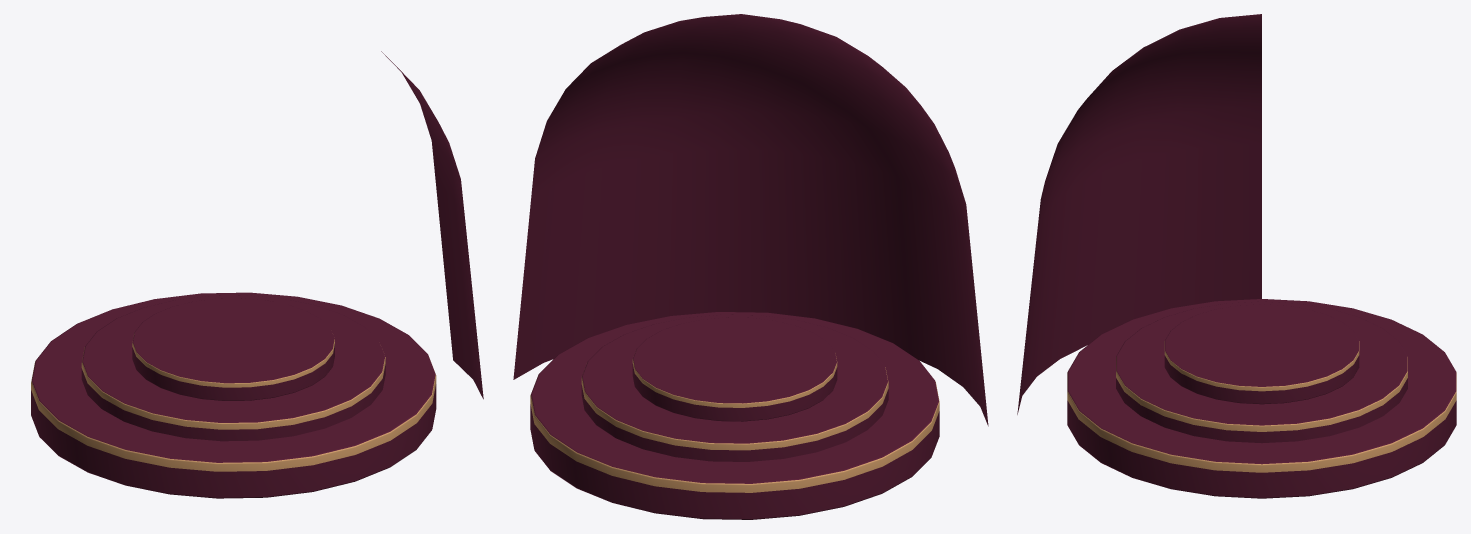
The model's file is Podium_01.fbx.
The picture shows the model from 3 angles, left to right: view 1: azimuth 30°, elevation 25°; view 2: azimuth 150°, elevation 25°; view 3: azimuth 270°, elevation 25°; orthographic projection. The views are drawn at different scales.
Parts seen in each view (by area): view 1: Red; view 2: Red; view 3: Red.
Boxes of the visible parts, left/top/right/bottom form: Red: left=31, top=51, right=483, bottom=498; Red: left=513, top=14, right=988, bottom=519; Red: left=1017, top=14, right=1456, bottom=498.
Bounding box in the file's own units: 250 × 215 × 224.
